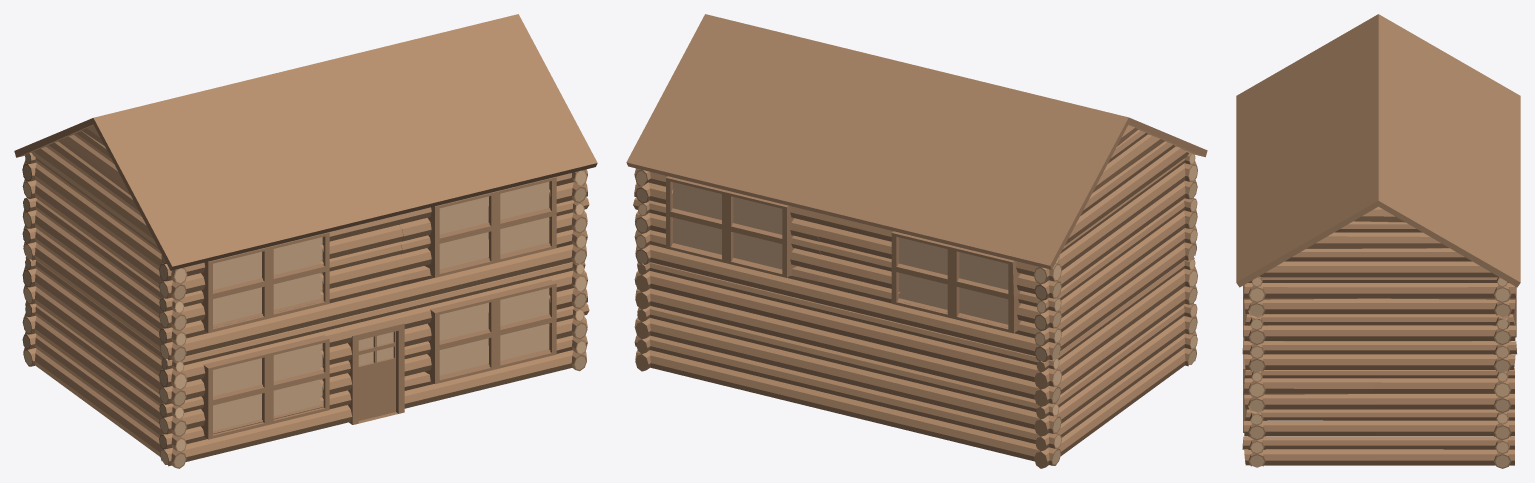
File: twoFloorCabin.fbx
The picture shows the model from 3 angles, left to right: view 1: azimuth 30°, elevation 25°; view 2: azimuth 150°, elevation 25°; view 3: azimuth 270°, elevation 25°; orthographic projection. The views are drawn at different scales.
Visible parts, largest first — view 1: Roof, Base Logs, Base Logs.002, NewWindow, NewWindow.001, Base Logs.001, Base Logs.003, Cube, Sides of Roof; view 2: Roof, Base Logs.001, Base Logs.003, NewWindow.002, Base Logs, Base Logs.002, Sides of Roof; view 3: Roof, Base Logs.001, Base Logs.003, Base Logs, Base Logs.002, Sides of Roof, Plane.
Part boxes in pixels (<box>): Roof: <box>14,14,597,270</box>; Base Logs: <box>101,262,589,468</box>; Base Logs.002: <box>101,169,589,362</box>; NewWindow: <box>201,280,556,439</box>; NewWindow.001: <box>201,177,556,333</box>; Base Logs.001: <box>22,256,106,414</box>; Base Logs.003: <box>22,152,107,309</box>; Cube: <box>348,323,404,424</box>; Sides of Roof: <box>31,125,157,246</box>; Roof: <box>626,14,1207,269</box>; Base Logs.001: <box>634,262,1125,468</box>; Base Logs.003: <box>633,168,1126,362</box>; NewWindow.002: <box>666,176,1021,333</box>; Base Logs: <box>1120,257,1197,410</box>; Base Logs.002: <box>1120,150,1197,304</box>; Sides of Roof: <box>1065,125,1188,245</box>; Roof: <box>1236,14,1520,287</box>; Base Logs.001: <box>1374,368,1514,468</box>; Base Logs.003: <box>1371,277,1516,372</box>; Base Logs: <box>1242,369,1374,467</box>; Base Logs.002: <box>1242,276,1374,372</box>; Sides of Roof: <box>1259,206,1498,277</box>; Plane: <box>1266,325,1493,354</box>.
Size of the model in its own units: 2723 by 1841 by 1754.
